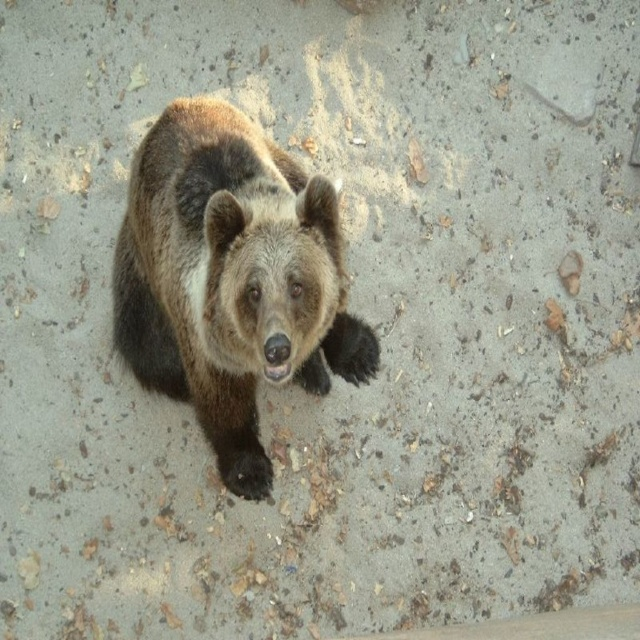Brown bear: (107, 93, 378, 497)
